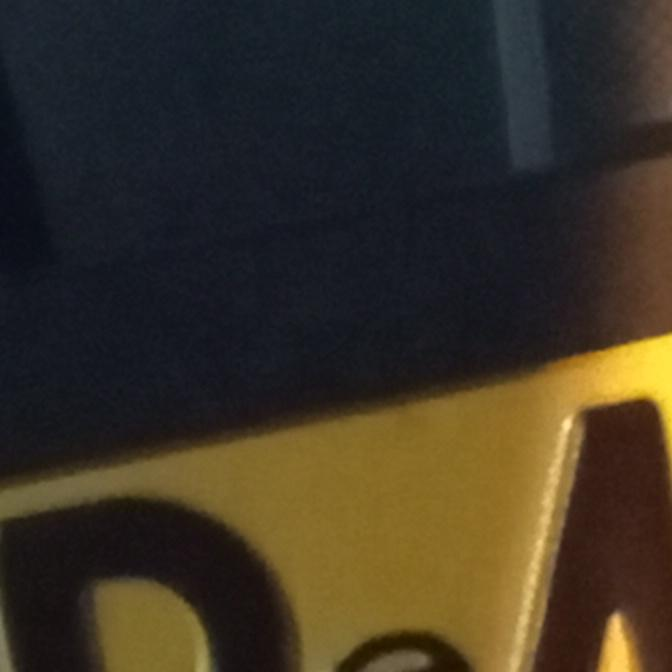plates: (0, 158, 672, 672)
